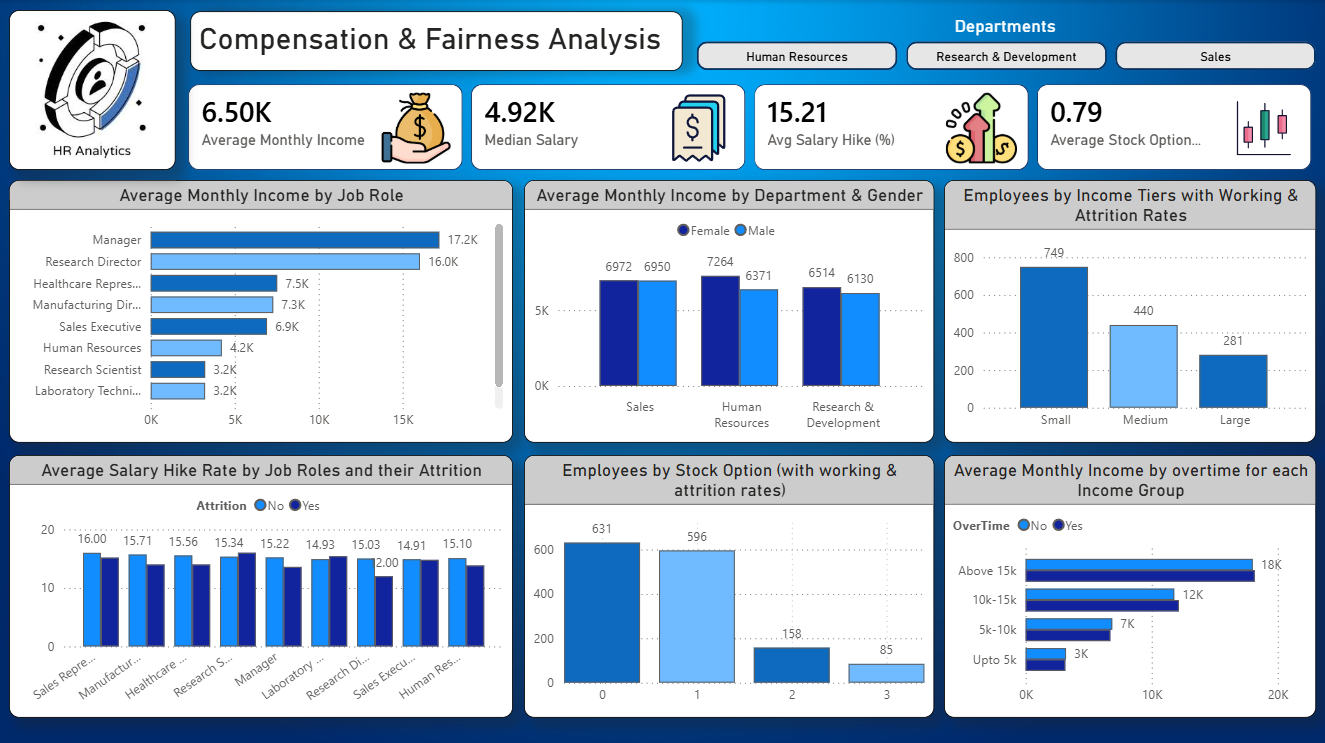

The dashboard page shown, as its layout file describes it:
{"tool":"powerbi","page":{"name":"Compensation & Fairness","canvas":[1280,720],"ordinal":2},"visuals":[{"type":"cardVisual","fields":{"Data":["HR_Employee_Attrition.Avg_Monthly_Income","HR_Employee_Attrition.Median_Salary","HR_Employee_Attrition.Avg_Salary_Hike_%","HR_Employee_Attrition.Average_Stock_Option_Level"]},"box":[178.6,77.2,1093,91.7],"z":0},{"type":"textbox","box":[184.6,10.9,475.3,57.9],"z":1000},{"type":"advancedSlicerVisual","title":"Department slicer","fields":{"Values":["HR_Employee_Attrition.Department"]},"box":[673.2,39.8,598.4,29],"z":2000},{"type":"textbox","box":[803.5,9.7,335.4,30.2],"z":3000},{"type":"clusteredBarChart","title":"Average Monthly Income by Job Role","fields":{"Category":["HR_Employee_Attrition.JobRole"],"Y":["HR_Employee_Attrition.Avg_Monthly_Income"]},"box":[9.7,173.7,486.2,253.4],"z":4000},{"type":"clusteredColumnChart","title":"Average Monthly Income by Department & Gender","fields":{"Y":["HR_Employee_Attrition.Avg_Monthly_Income"],"Category":["HR_Employee_Attrition.Department"],"Series":["HR_Employee_Attrition.Gender"]},"box":[506.7,173.7,395.7,253.4],"z":5000},{"type":"columnChart","title":"Employees by Income Tiers with Working & Attrition Rates","fields":{"Category":["HR_Employee_Attrition.Income_Tier"],"Y":["CountNonNull(HR_Employee_Attrition.EmployeeNumber)"]},"box":[912.1,173.7,359.5,253.4],"z":6000},{"type":"clusteredColumnChart","title":"Average Salary Hike Rate by Job Roles and their Attrition","fields":{"Category":["HR_Employee_Attrition.JobRole"],"Y":["Avg(HR_Employee_Attrition.PercentSalaryHike)"],"Series":["HR_Employee_Attrition.Attrition"]},"box":[9.7,439.1,486.2,253.4],"z":7000},{"type":"columnChart","title":"Employees by Stock Option (with working & attrition rates)","fields":{"Category":["HR_Employee_Attrition.StockOptionLevel"],"Y":["CountNonNull(HR_Employee_Attrition.EmployeeNumber)"]},"box":[506.7,439.1,395.7,253.4],"z":8000},{"type":"clusteredBarChart","title":"Average Monthly Income by overtime for each Income Group","fields":{"Category":["HR_Employee_Attrition.Income_Grp"],"Y":["HR_Employee_Attrition.Avg_Monthly_Income"],"Series":["HR_Employee_Attrition.OverTime"]},"box":[912.1,439.1,359.5,253.4],"z":9000},{"type":"image","box":[9.7,9.7,160.5,154.4],"z":10000}]}

Visuals, with their boxes in screenshot pixels (x1, y1, x2, y2), scaled from the page's 1280x720 canvas onto the 1325x743 screenshot:
cardVisual - HR_Employee_Attrition.Avg_Monthly_Income x HR_Employee_Attrition.Median_Salary: <box>185,80,1316,174</box>
textbox: <box>191,11,683,71</box>
"Department slicer" advancedSlicerVisual: <box>697,41,1316,71</box>
textbox: <box>832,10,1179,41</box>
"Average Monthly Income by Job Role" clusteredBarChart: <box>10,179,513,441</box>
"Average Monthly Income by Department & Gender" clusteredColumnChart: <box>525,179,934,441</box>
"Employees by Income Tiers with Working & Attrition Rates" columnChart: <box>944,179,1316,441</box>
"Average Salary Hike Rate by Job Roles and their Attrition" clusteredColumnChart: <box>10,453,513,715</box>
"Employees by Stock Option (with working & attrition rates)" columnChart: <box>525,453,934,715</box>
"Average Monthly Income by overtime for each Income Group" clusteredBarChart: <box>944,453,1316,715</box>
image: <box>10,10,176,169</box>
